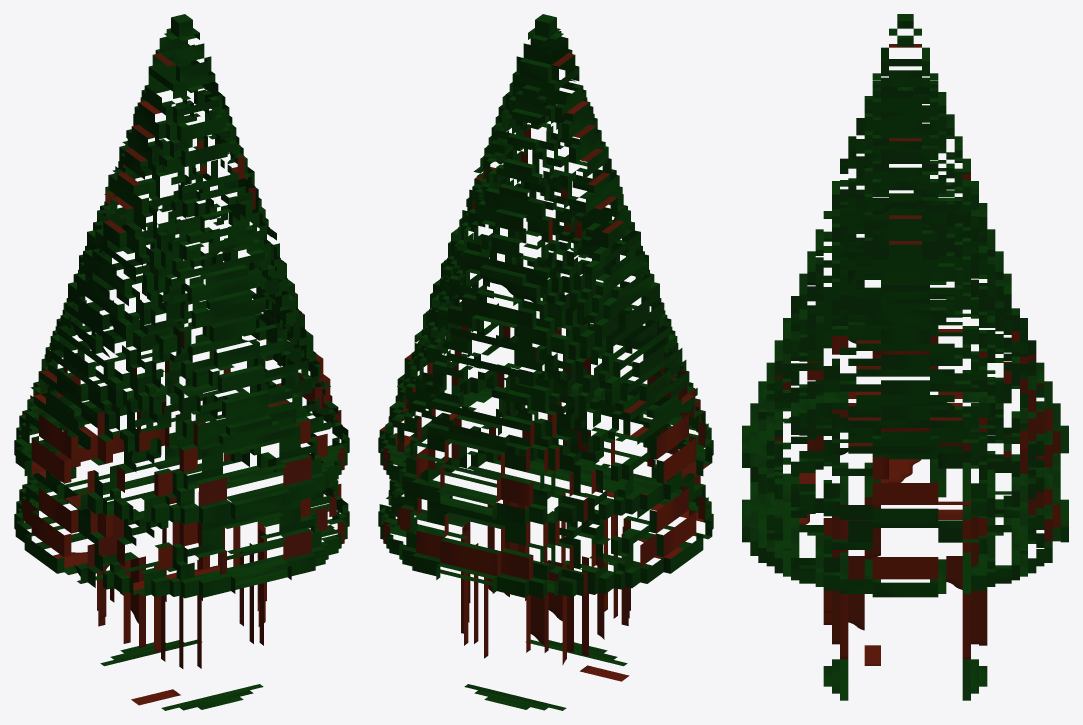
File: Arbol2.fbx
3 renders of one model, left to right at view 1: azimuth 30°, elevation 25°; view 2: azimuth 150°, elevation 25°; view 3: azimuth 270°, elevation 25°, orthographic.
Visible parts, largest first — view 1: Arbol2; view 2: Arbol2; view 3: Arbol2.
Boxes of the visible parts, x1,y1,x2,y2 form: Arbol2: (14,14,349,710); Arbol2: (378,14,713,710); Arbol2: (742,14,1068,700).
Size of the model in its own units: 40 by 89 by 40.
